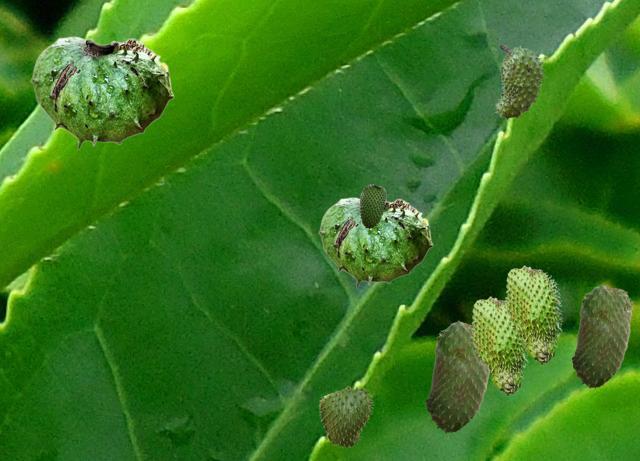guyabano: (30, 36, 173, 149), (318, 197, 432, 287), (425, 320, 490, 433), (571, 284, 632, 388), (470, 296, 528, 395), (504, 265, 562, 364), (494, 44, 546, 120), (319, 386, 373, 448), (359, 184, 385, 228)
